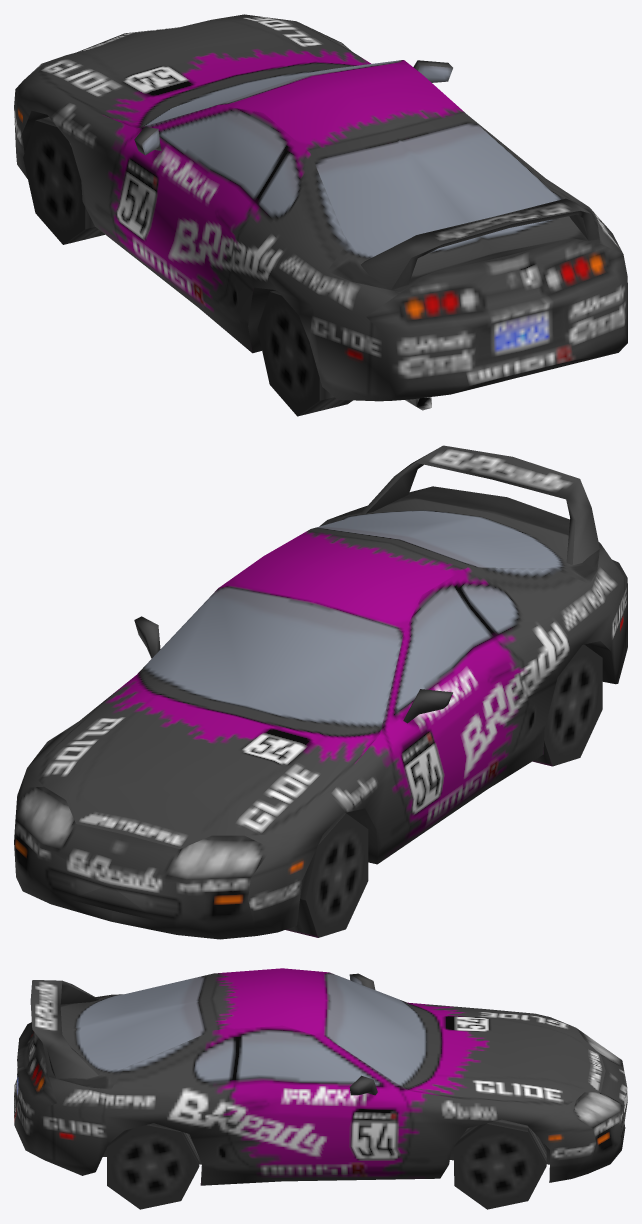
File: fhqDiecast18Supra.fbx
The picture shows the model from 3 angles, top to bottom: view 1: azimuth 30°, elevation 25°; view 2: azimuth 150°, elevation 25°; view 3: azimuth 270°, elevation 25°; orthographic projection. The views are drawn at different scales.
Visible parts, largest first — view 1: MKIVSupraDC; view 2: MKIVSupraDC; view 3: MKIVSupraDC.
Boxes of the visible parts, bbox=[...] form: MKIVSupraDC: bbox=[14, 14, 627, 416]; MKIVSupraDC: bbox=[14, 445, 627, 939]; MKIVSupraDC: bbox=[14, 968, 627, 1209].
Bounding box in the file's own units: 0.22 × 0.1483 × 0.5027.
